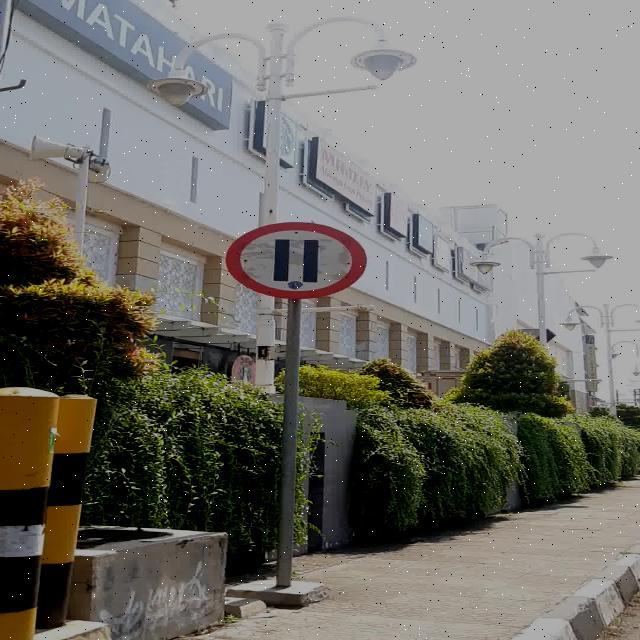Larangan Muatan - 10 ton: (226, 222, 366, 299)
